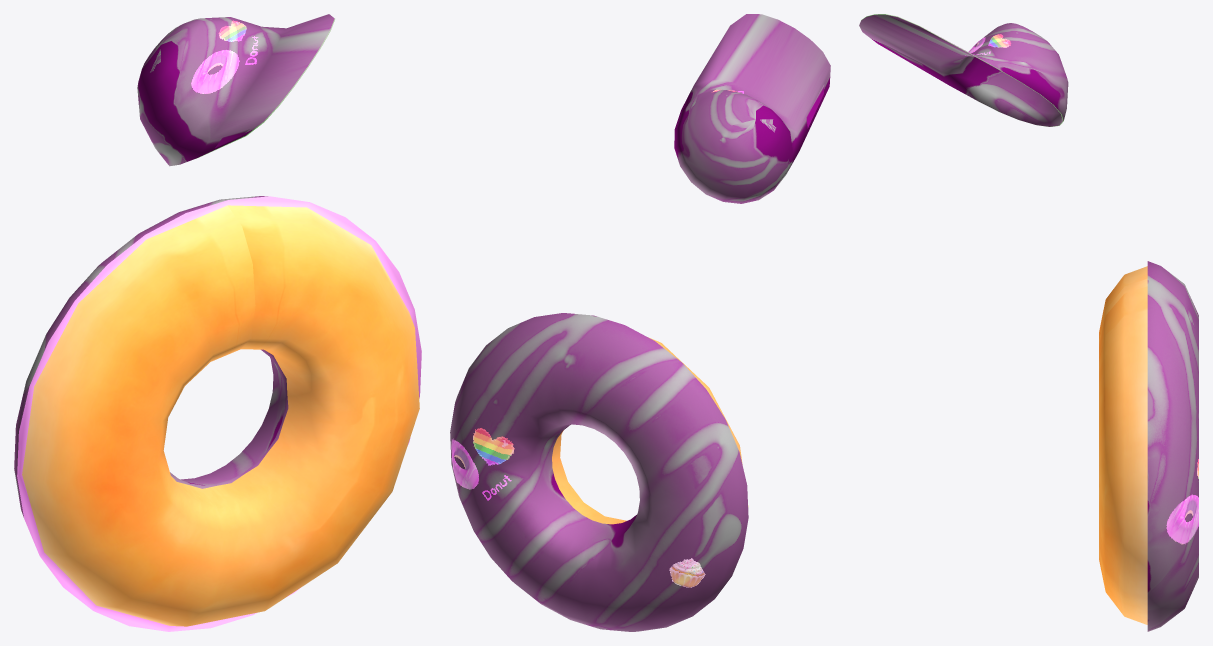
Rendered from donut2_noarmature.glb.
3 views of the same model, side by side, from view 1: azimuth 30°, elevation 25°; view 2: azimuth 150°, elevation 25°; view 3: azimuth 270°, elevation 25° (orthographic). The views are drawn at different scales.
Visible parts, largest first — view 1: donut.001; view 2: donut.001; view 3: donut.001.
Boxes of the visible parts, x1,y1,x2,y2 form: donut.001: (14,14,421,631); donut.001: (450,14,830,631); donut.001: (859,14,1198,631).
Size of the model in its own units: 0.815 by 1.41 by 0.7462.
2 materials, 2 textured.
